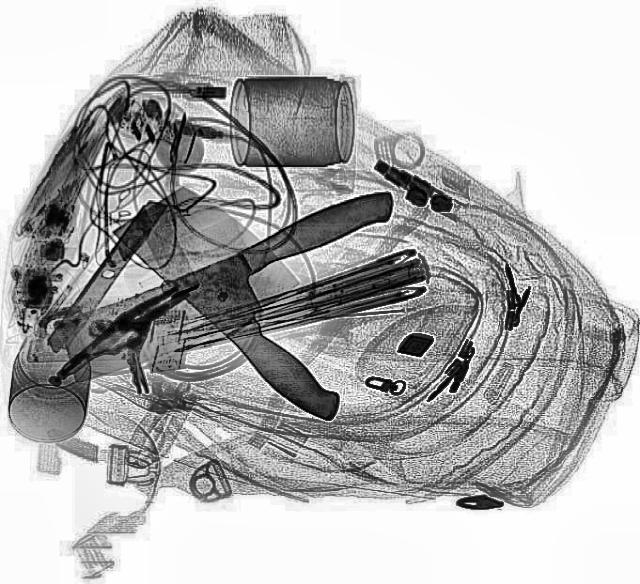Knife: (38, 186, 426, 386), (108, 173, 394, 433)
